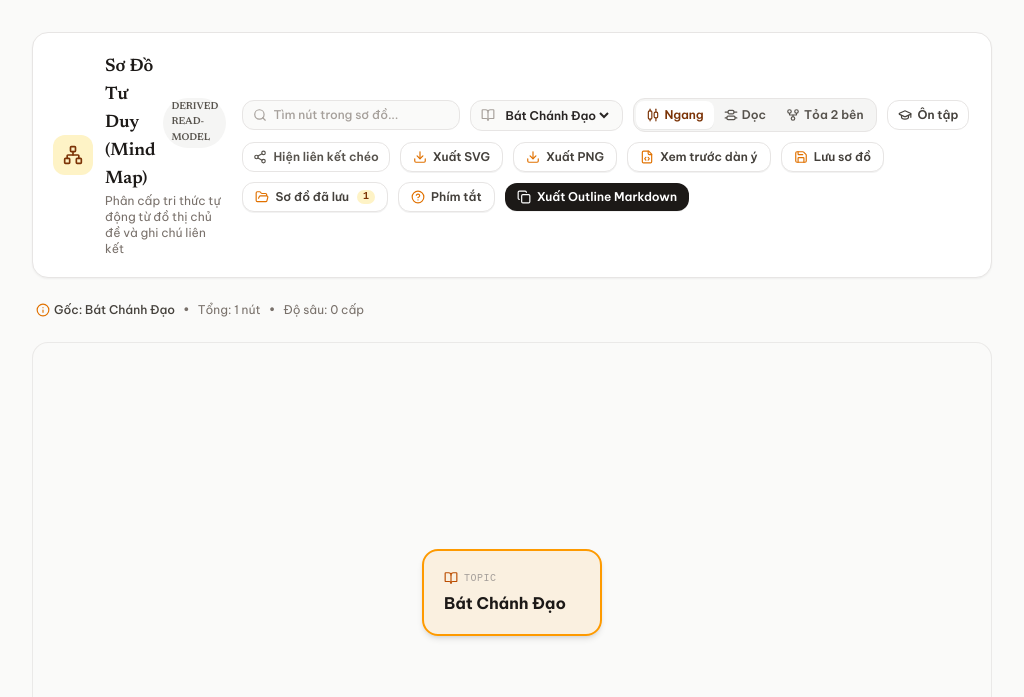
Phase M2 — Inline Node Drawer for Saved Mind Map Documents › Scenario 2: Drawer opens in saved-document mode and displays correct node metadata
The image size is (1024, 697).
Open saved document via browser modal
Step 1. Click the button with test id "btn-open-mindmap-browser" → (315, 197), box [242,182,388,212]
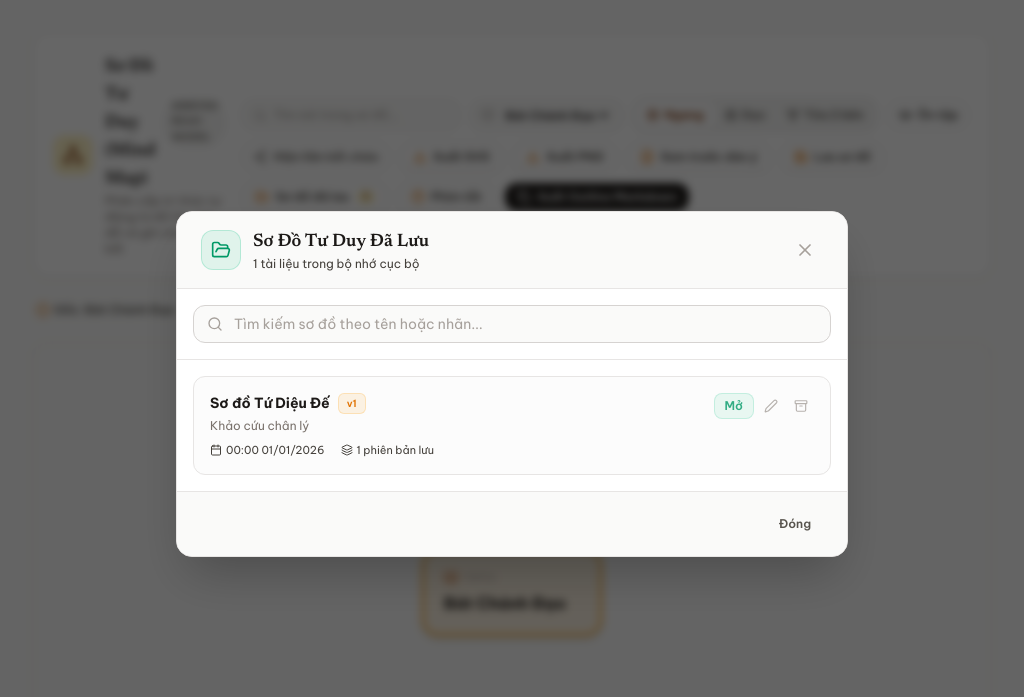
Step 2. Click the button "Mở" → (734, 406), box [714,393,754,419]
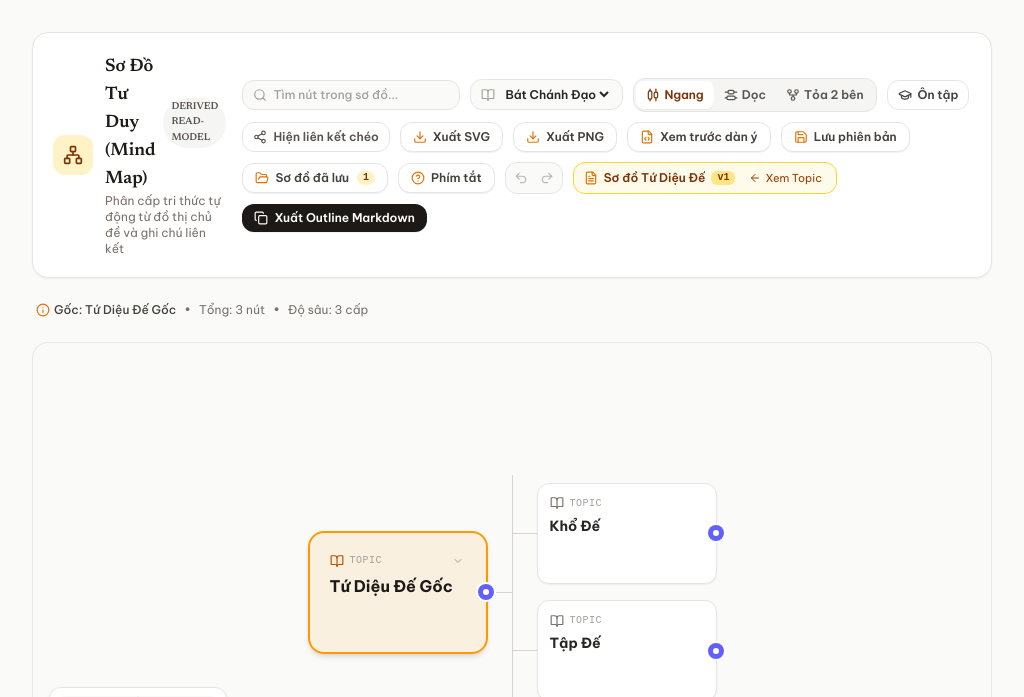
Now the element showing "topic Khổ Đế" is shown
Step 3. Click the element showing "topic Khổ Đế" → (626, 533), box [536,483,716,584]
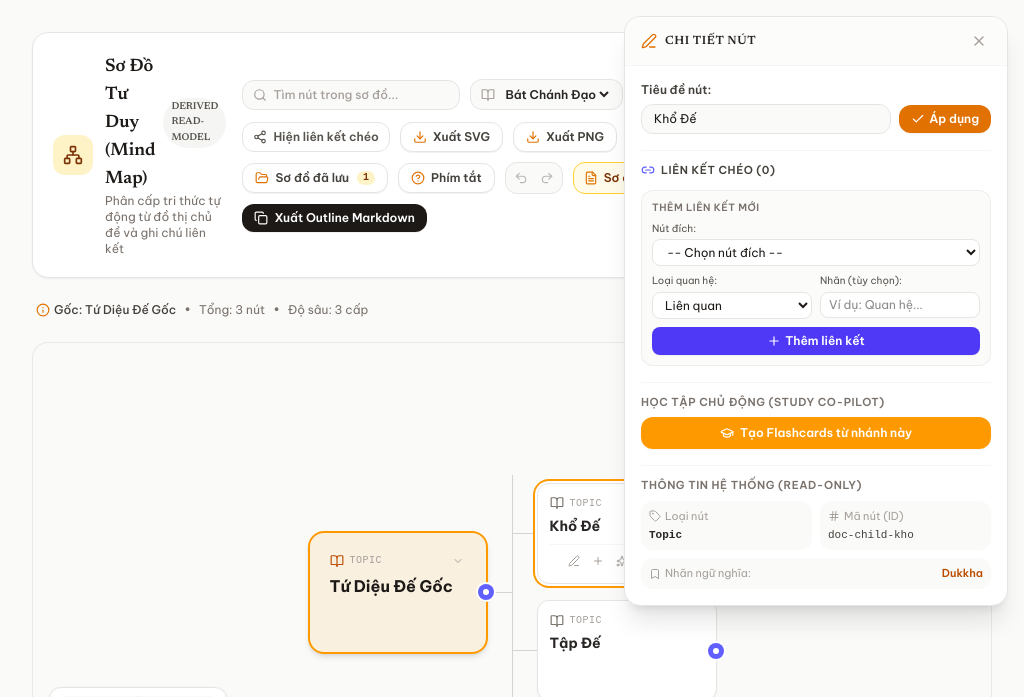
Now the element with test id "mindmap-node-drawer" is shown, box [624,16,1008,606]
Now the field with test id "input-drawer-node-title" holds "Khổ Đế", box [641,104,891,134]
Now the text with test id "drawer-node-type" reads "topic", box [649,529,682,541]
